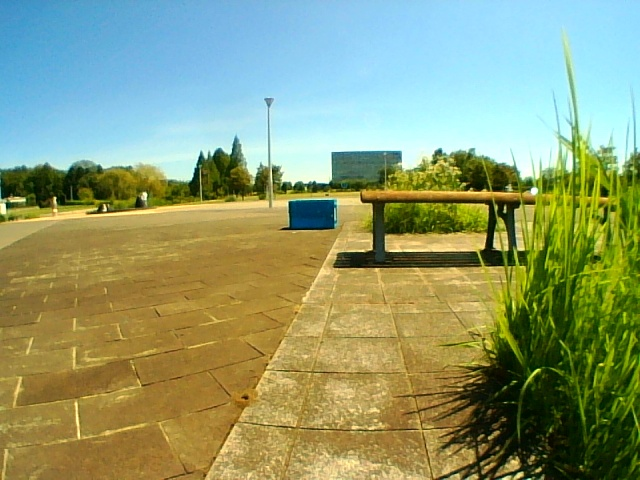blue_box: (289, 200, 337, 229)
tag: (333, 208, 336, 223)
